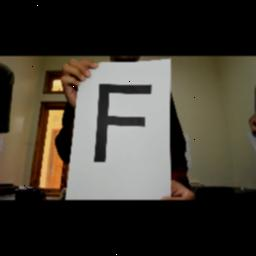f: (88, 76, 156, 168)
